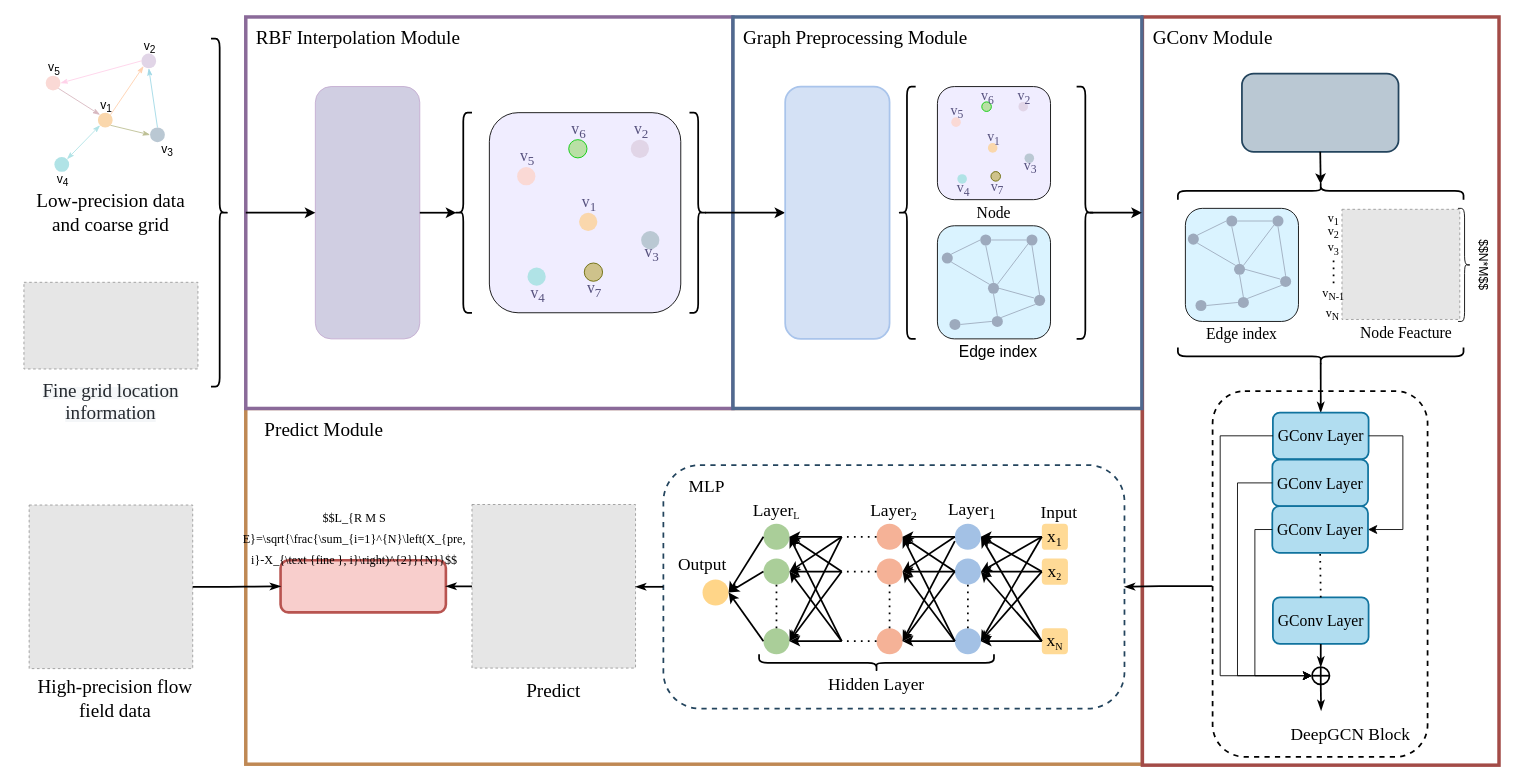
The diagram is 1516 pixels wide and 781 high, and some of its shapes have lost their labels. Grey dashed boxes stand in for pictures. Each missing label, with the centre of its shape:
$$L_{RMSE}$$: the point at 363,585
KNNGraph Layer: the point at 837,212
Node Encoder: the point at 1320,112
RBF Interpolation: the point at 367,212
